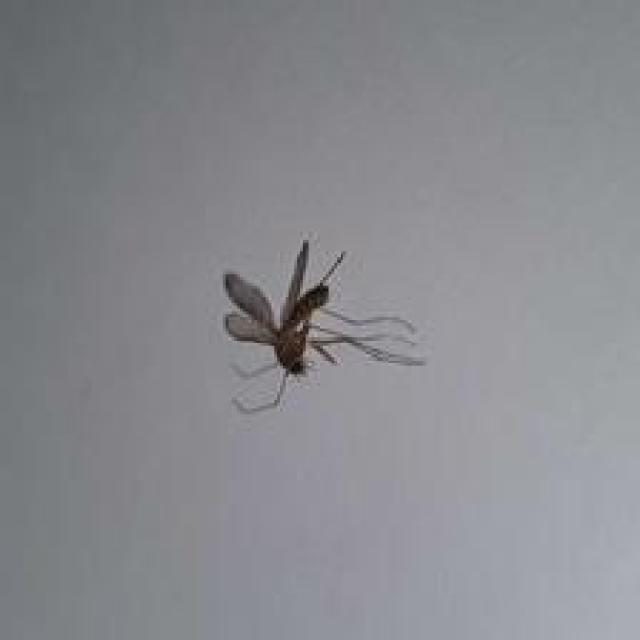Culex: (222, 237, 427, 414)
